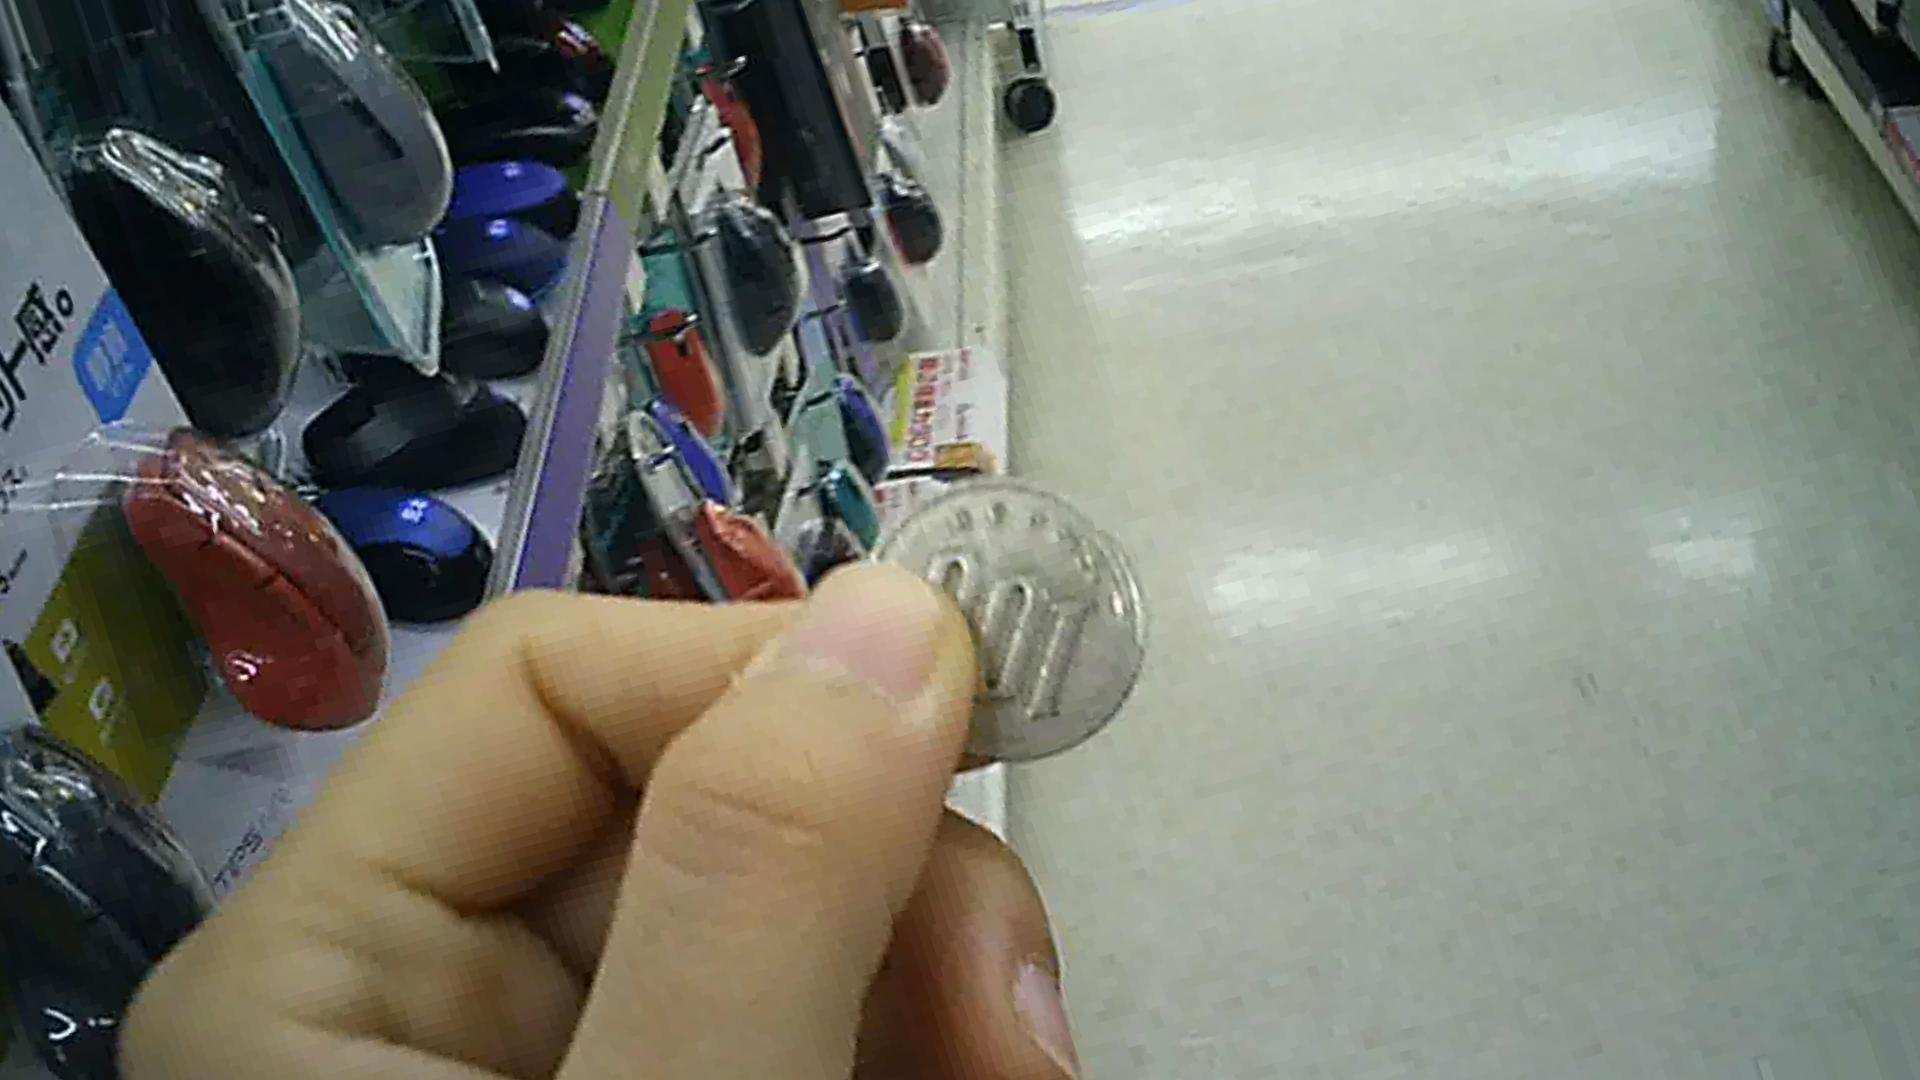100 Yen: (860, 487, 1179, 783)
